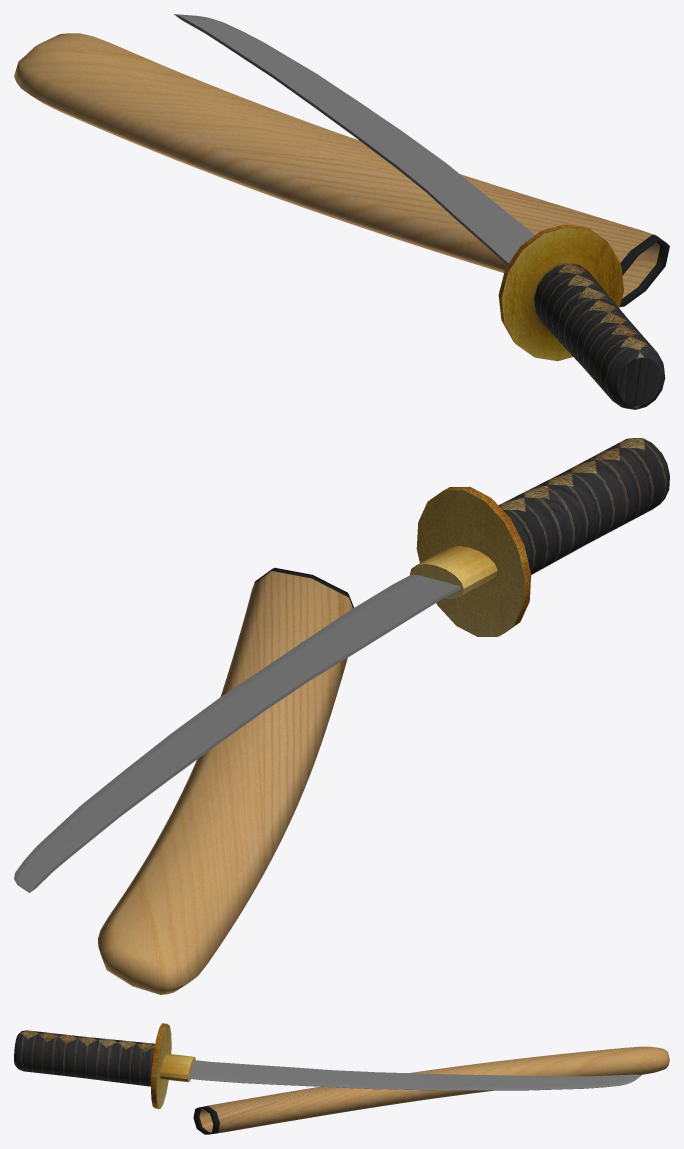
The model's file is sword.obj.
The picture shows the model from 3 angles, top to bottom: view 1: azimuth 30°, elevation 25°; view 2: azimuth 150°, elevation 25°; view 3: azimuth 270°, elevation 25°; orthographic projection. The views are drawn at different scales.
Parts seen in each view (by area): view 1: sword_cover, Hand_grip, Sharp_Blade; view 2: sword_cover, Hand_grip, Sharp_Blade; view 3: sword_cover, Hand_grip, Sharp_Blade.
Boxes of the visible parts, x1,y1,x2,y2 form: sword_cover: (14,33,669,306); Hand_grip: (498,224,665,409); Sharp_Blade: (174,14,534,265); sword_cover: (98,568,353,994); Hand_grip: (410,438,669,636); Sharp_Blade: (14,574,460,892); sword_cover: (193,1046,669,1134); Hand_grip: (14,1023,195,1108); Sharp_Blade: (188,1060,641,1090).
Size of the model in its own units: 7.77 by 3.33 by 24.65.
Materials: 7 (5 with a texture image).
